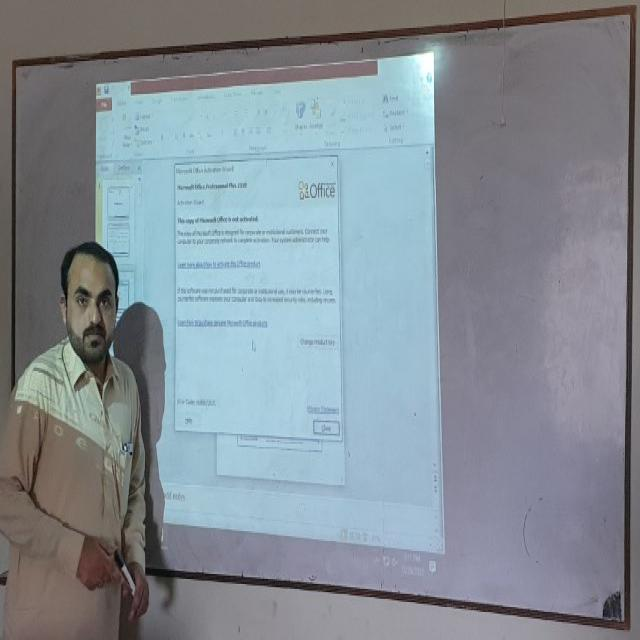Instructor: (23, 239, 148, 640)
Slide: (93, 47, 447, 585)
White-board: (16, 11, 636, 624)
